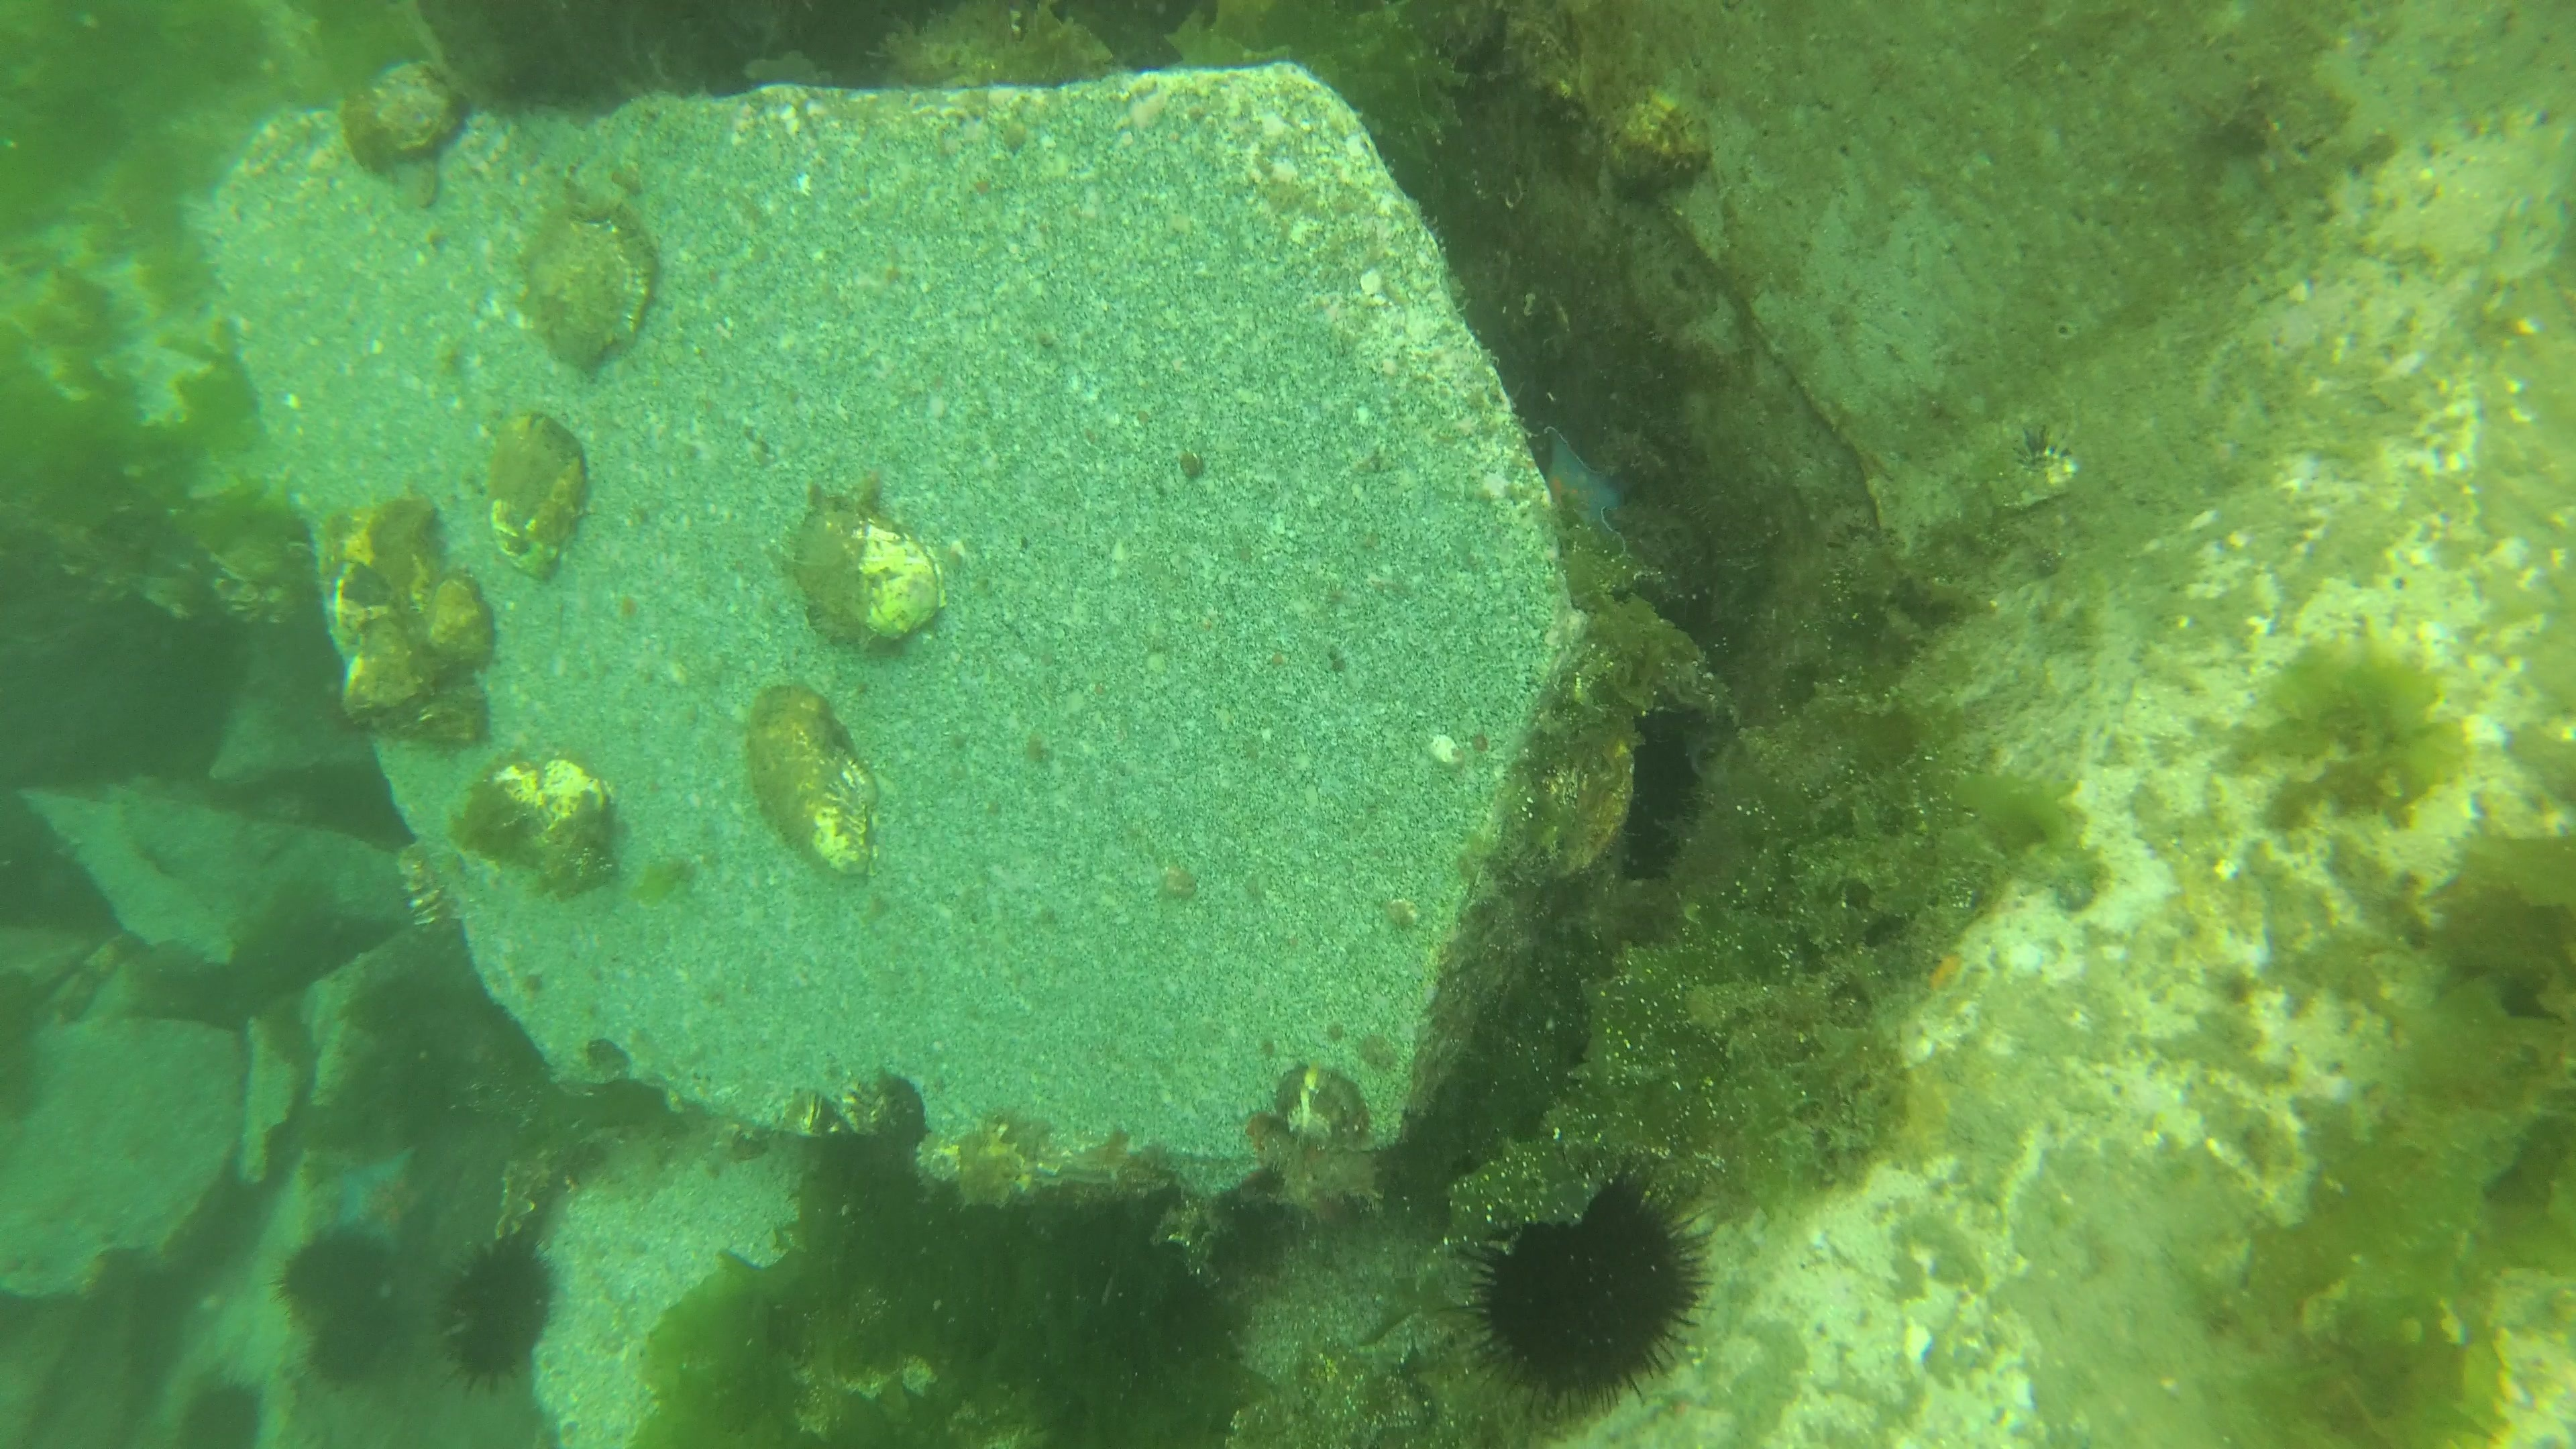echinus: (1465, 1157, 1725, 1424), (437, 1230, 563, 1387), (280, 1226, 402, 1322), (172, 1375, 264, 1449), (308, 1336, 396, 1396)
starfish: (1537, 419, 1629, 563), (324, 1134, 430, 1247)
